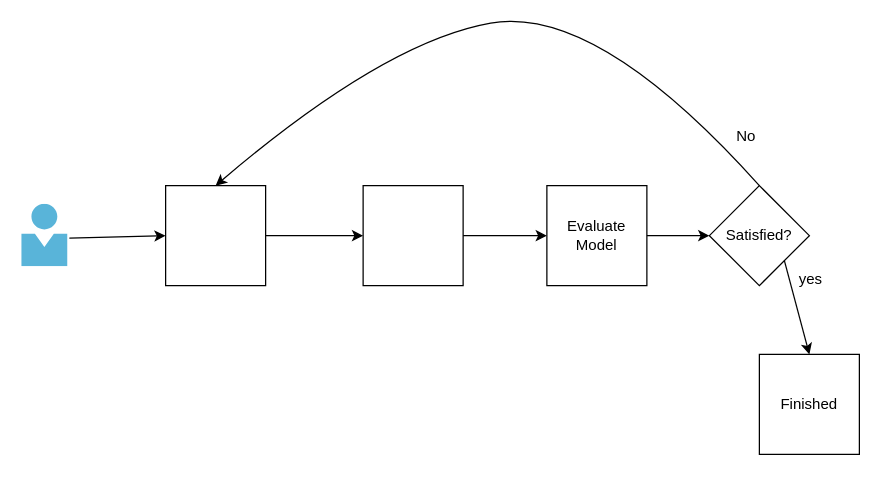
Image size: 881x478. Some labels were removed from this diagram. Here are the shapes that lost their labels. From the top down, the centre of each, then its label:
At pixel 215 235: "Label Batch".
At pixel 412 235: "Train Model".
